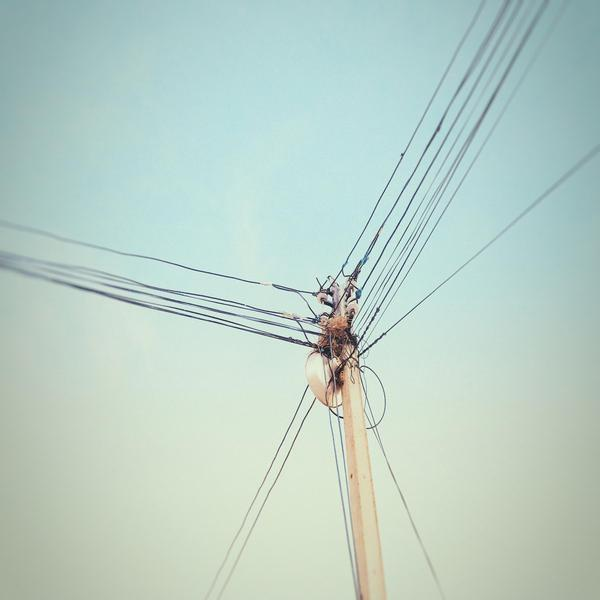utility_pole: (287, 250, 397, 430)
